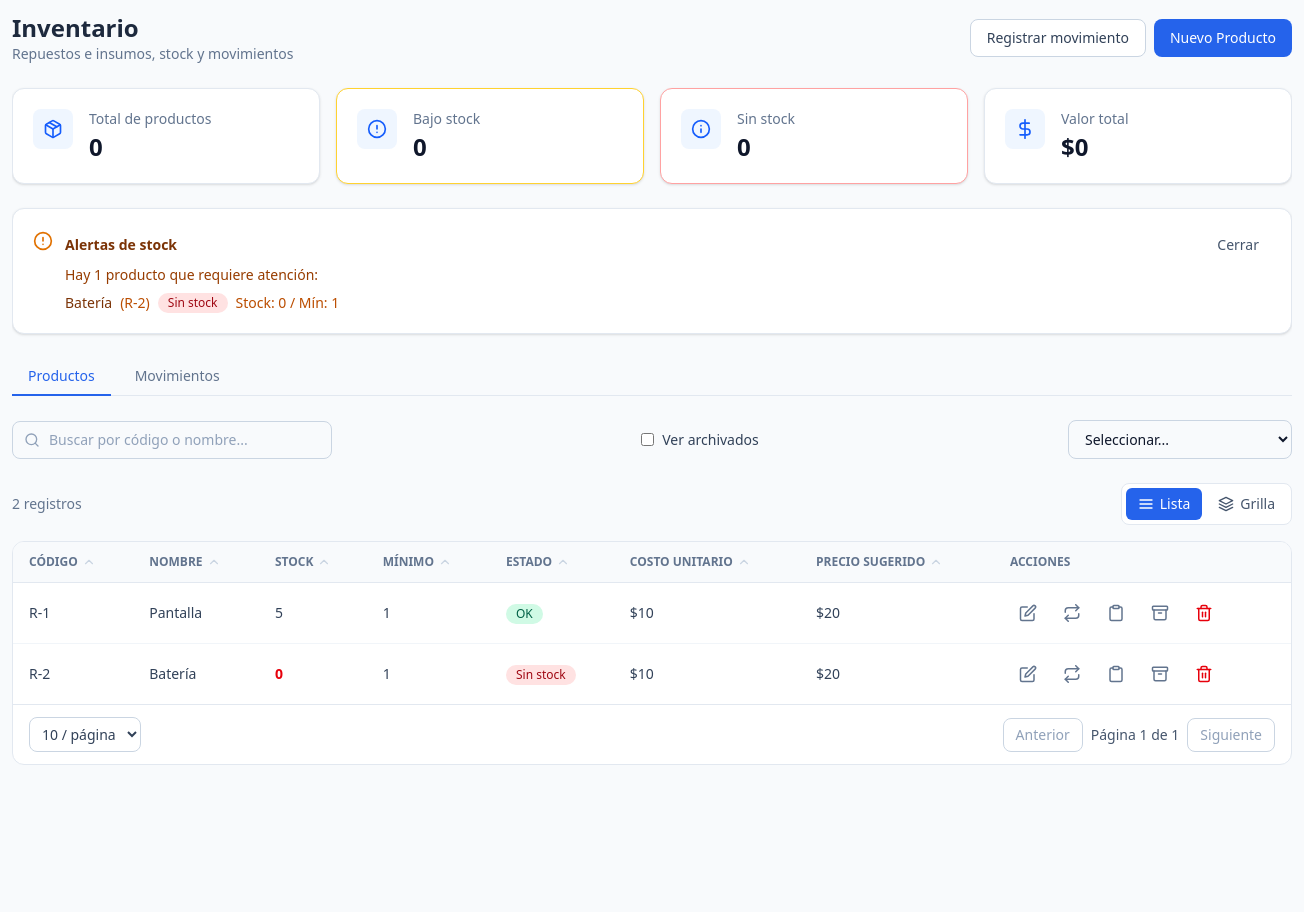
Test: InventarioPage › el filtro Sin stock deja solo los productos sin stock
This screenshot has width=1304, height=912.
Select "Sin stock" in the dropdown showing "Seleccionar..." at coordinates (1180, 440), box [1068,420,1292,459]
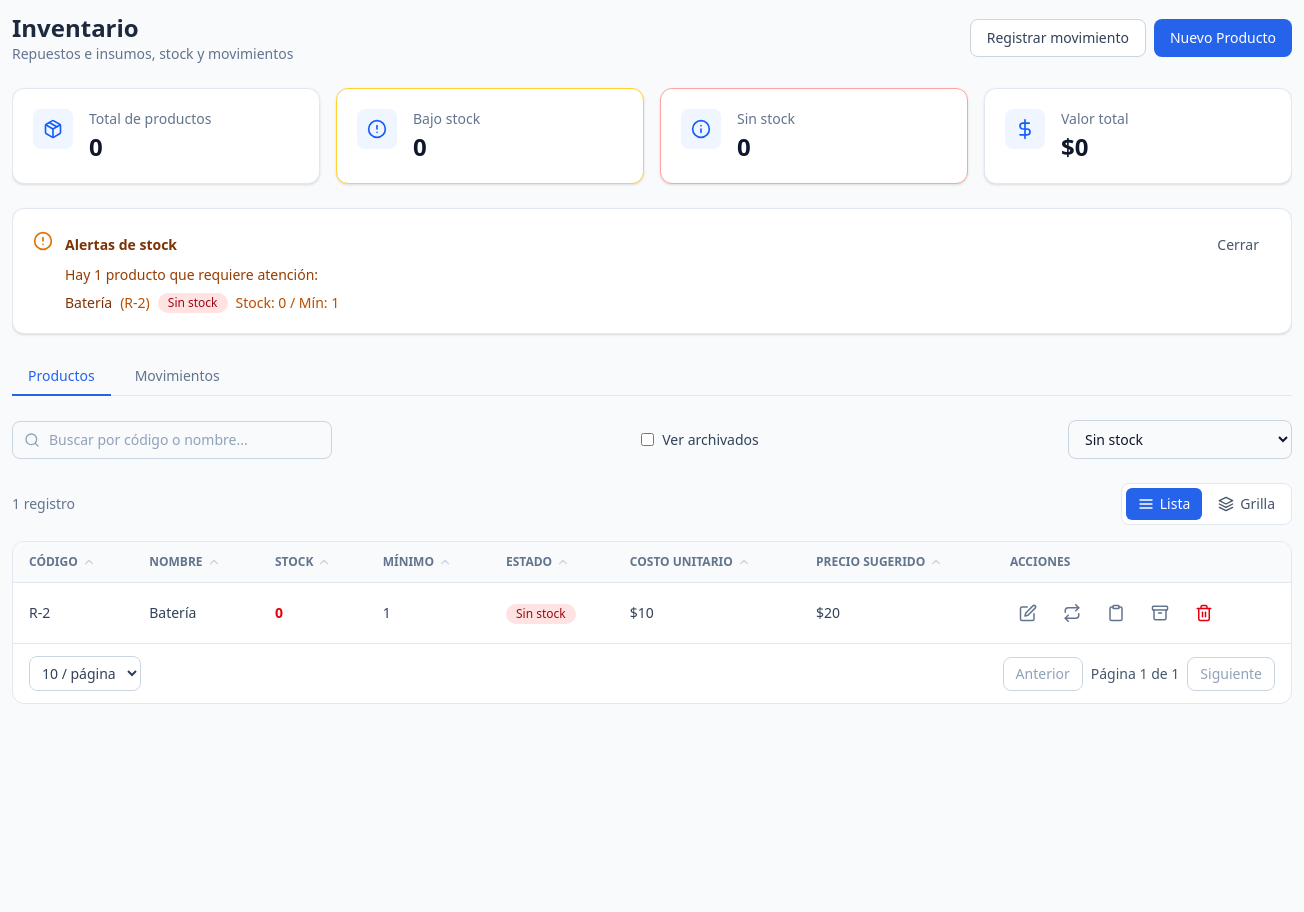
Expected: the text "Batería" in the row of "Stock:" is shown, [65,293,112,312]
Expected: the text "Pantalla" is not shown
